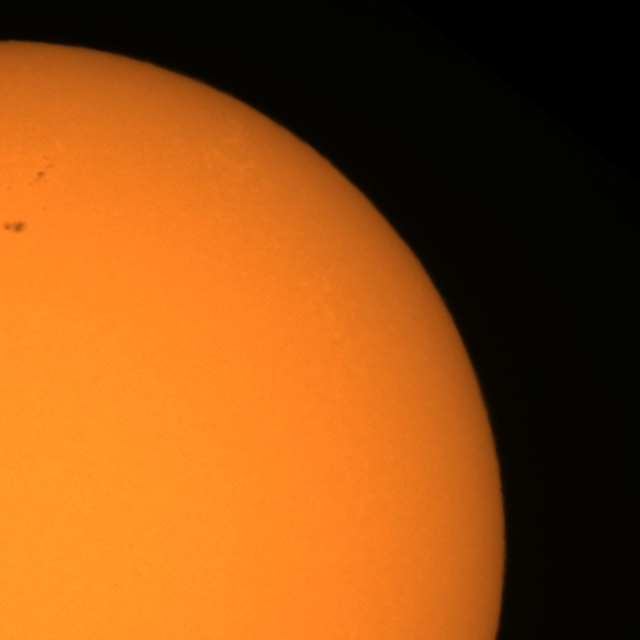sunspot: (34, 157, 53, 187), (1, 219, 28, 236), (34, 169, 49, 186)
